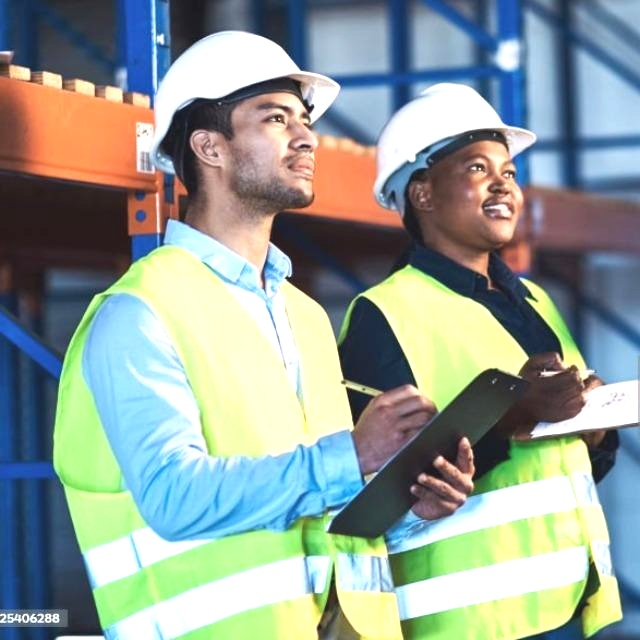Con_Casco: (151, 27, 343, 211), (368, 80, 536, 247)
Con_Chaleco: (44, 250, 381, 640), (360, 261, 614, 640)
